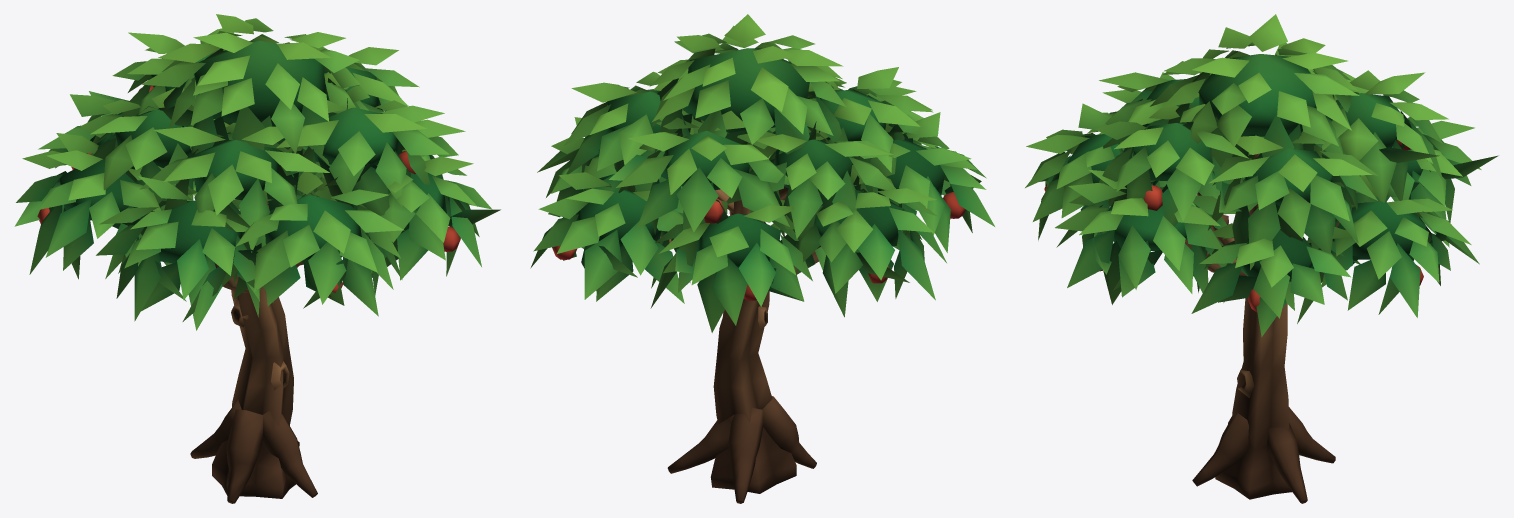
Rendered from tree_green.glb.
The picture shows the model from 3 angles, left to right: view 1: azimuth 30°, elevation 25°; view 2: azimuth 150°, elevation 25°; view 3: azimuth 270°, elevation 25°; orthographic projection. The views are drawn at different scales.
Parts seen in each view (by area): view 1: Tree; view 2: Tree; view 3: Tree.
Boxes of the visible parts, box(x1,y1,x2,y2) form: Tree: box(14, 14, 500, 503); Tree: box(530, 14, 994, 503); Tree: box(1025, 14, 1498, 503).
Bounding box in the file's own units: 9.3 × 9.64 × 9.39.
